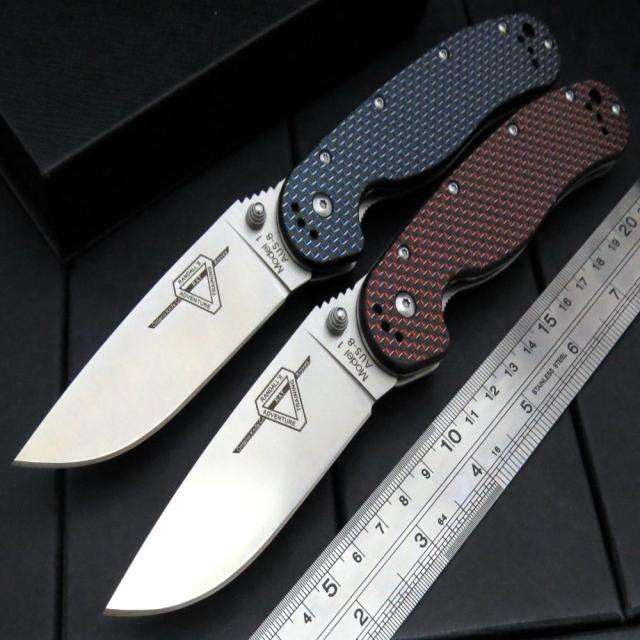knife: (99, 78, 633, 640), (6, 9, 562, 483)
